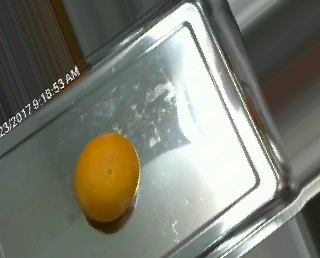Orange: (74, 132, 140, 222)
